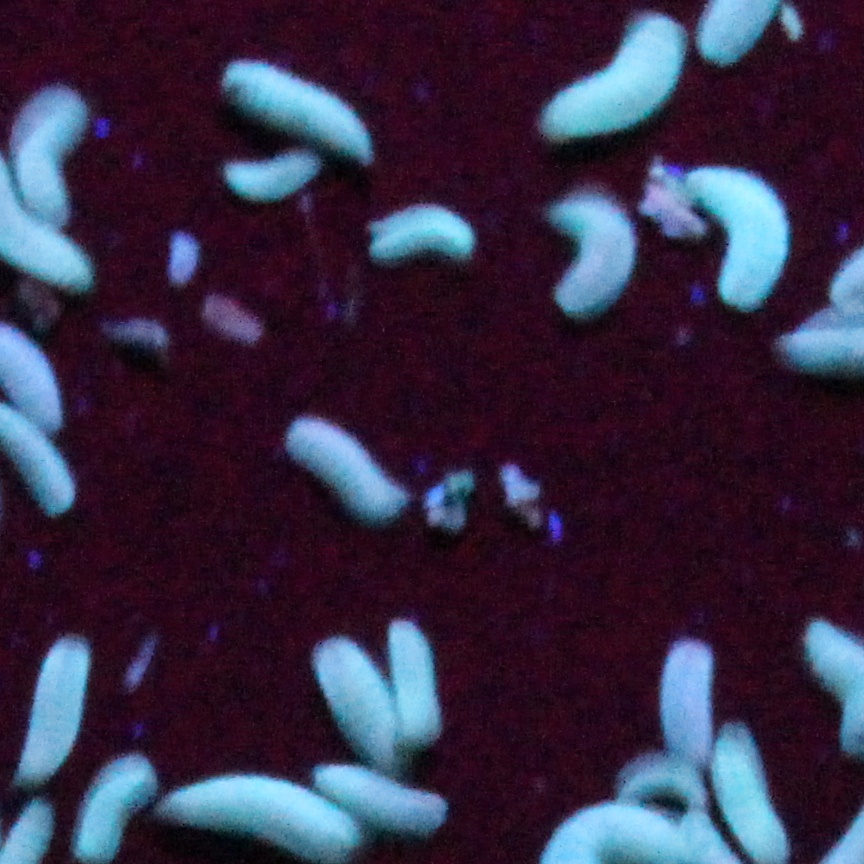larve: (540, 13, 681, 142), (231, 57, 379, 165), (681, 172, 790, 315), (287, 413, 410, 524), (306, 634, 404, 772), (6, 86, 94, 222), (15, 636, 87, 786), (554, 188, 635, 317), (317, 763, 456, 838), (69, 755, 154, 863), (658, 642, 717, 765), (390, 622, 442, 753), (375, 199, 475, 265), (625, 759, 712, 815), (223, 159, 325, 199)
